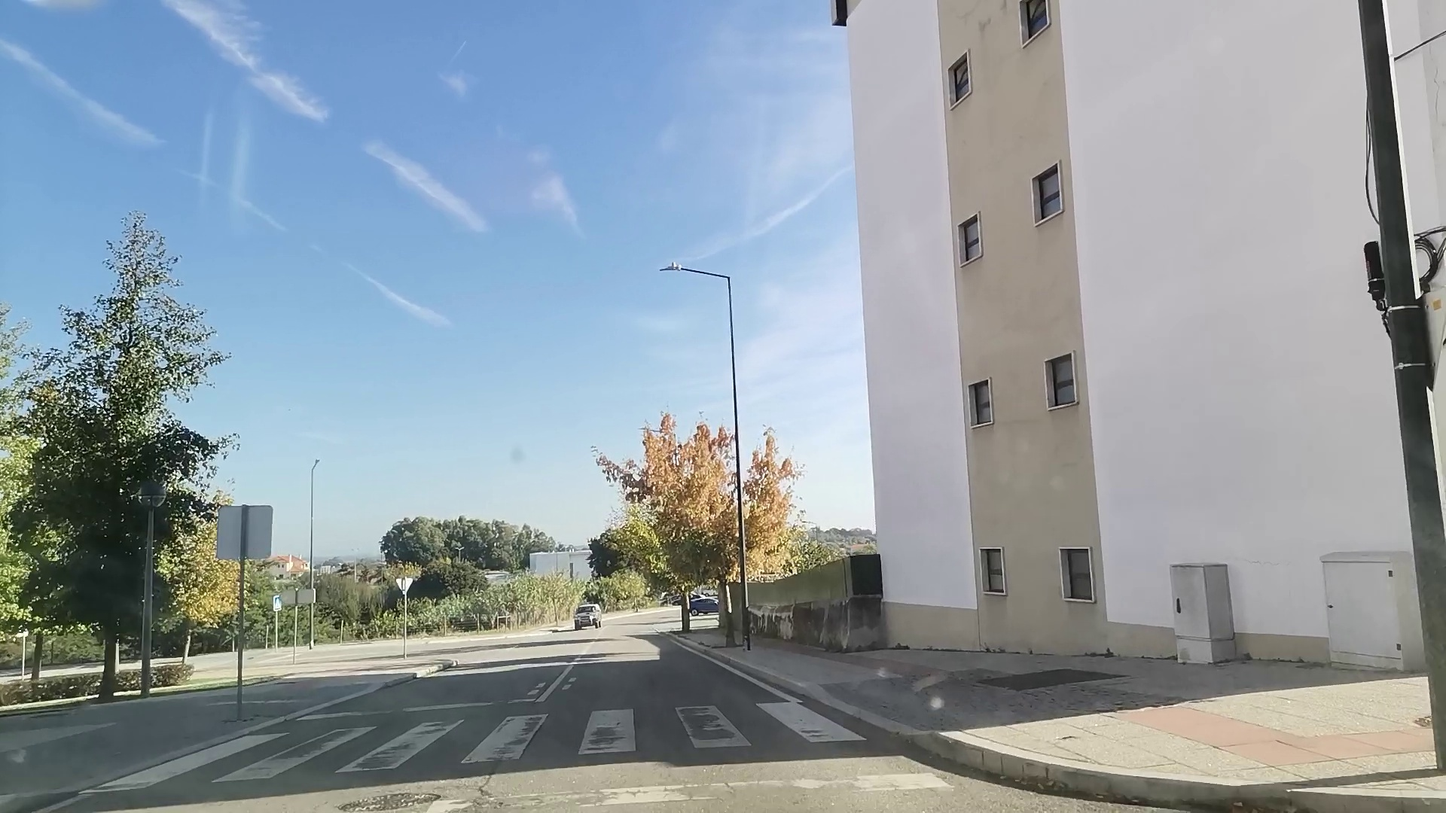Stairs: (97, 703, 871, 790)
